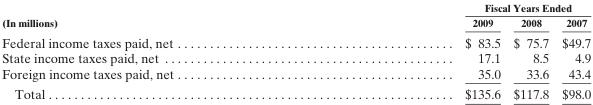table: (1, 0, 590, 101)
table column: (1, 0, 318, 101), (318, 0, 506, 101), (506, 0, 554, 101), (554, 0, 590, 101)
table column header: (1, 0, 590, 31)
table row: (1, 31, 590, 50), (1, 65, 590, 83), (1, 83, 590, 101), (1, 14, 590, 31), (1, 50, 590, 65), (1, 0, 590, 14)
table spanning cell: (1, 0, 318, 31), (318, 0, 590, 14)
